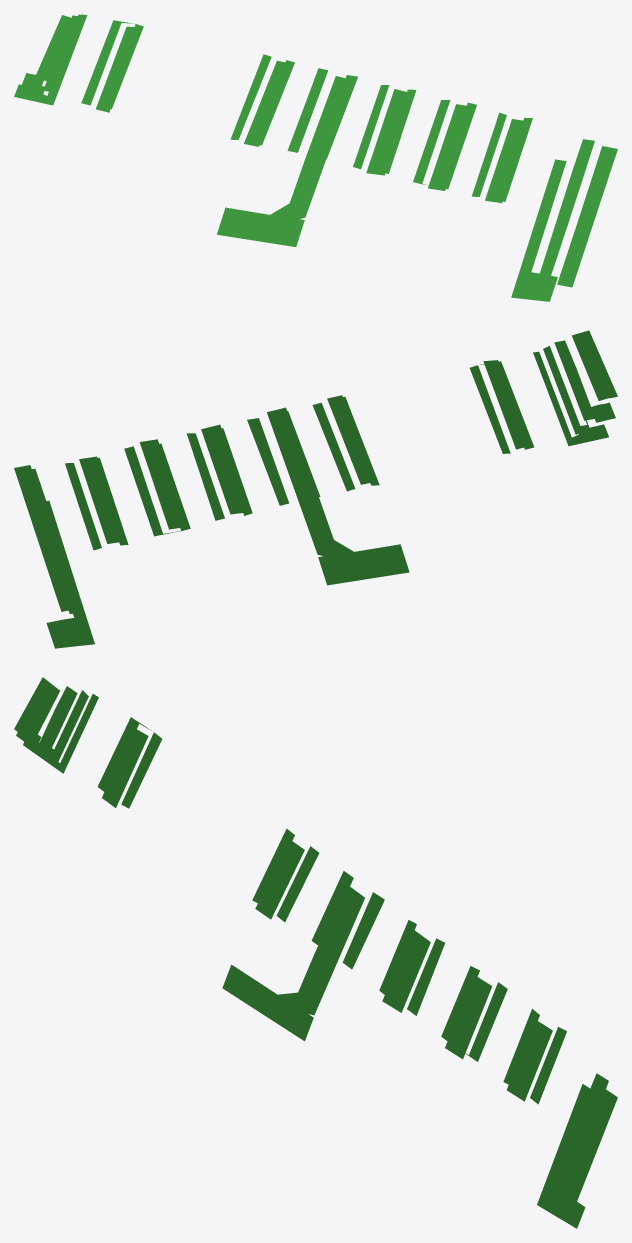
The model's file is Roof_Hini_0.0_Slope_1.0.obj.
3 renders of one model, top to bottom at view 1: azimuth 30°, elevation 25°; view 2: azimuth 150°, elevation 25°; view 3: azimuth 330°, elevation 25°, orthographic. The views are drawn at different scales.
Visible parts, largest first — view 1: 1, 5, 8, 3, 4, 2, 6, 7; view 2: 5, 1, 8, 4, 3, 2, 6, 7; view 3: 5, 1, 8, 4, 3, 2, 6, 7.
Part boxes in pixels (x1,y1,x2,y2): 1: (511,139,617,301); 5: (217,68,357,246); 8: (14,14,87,105); 3: (353,85,416,175); 4: (413,100,476,190); 2: (471,112,532,203); 6: (230,54,294,146); 7: (81,20,143,112); 5: (247,407,409,585); 1: (14,465,94,648); 8: (533,330,617,446); 4: (124,439,190,536); 3: (186,424,252,520); 2: (65,456,128,550); 6: (312,395,379,491); 7: (469,360,534,453); 5: (222,871,384,1041); 1: (537,1073,617,1228); 8: (14,677,98,773); 4: (441,966,507,1061); 3: (379,920,444,1015); 2: (503,1008,566,1104); 6: (252,828,319,922); 7: (97,717,162,808).
Size of the model in its own units: 135 by 92 by 7.17.
